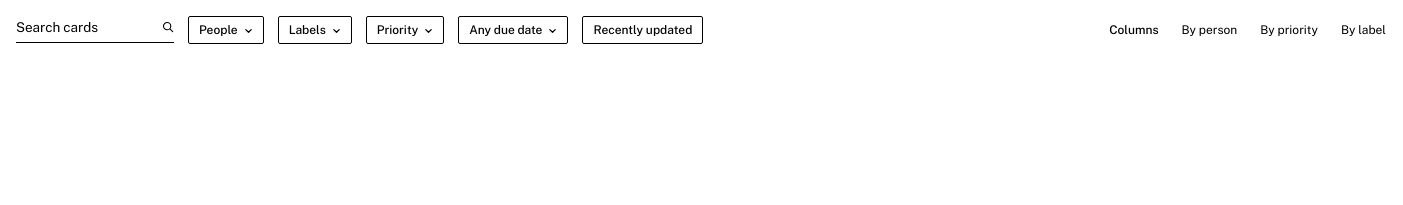
Test: BoardFilterBar — people › puts you first
Click the button with aria-label "Filter by assignee" at (226, 30), box [188,16,264,44]
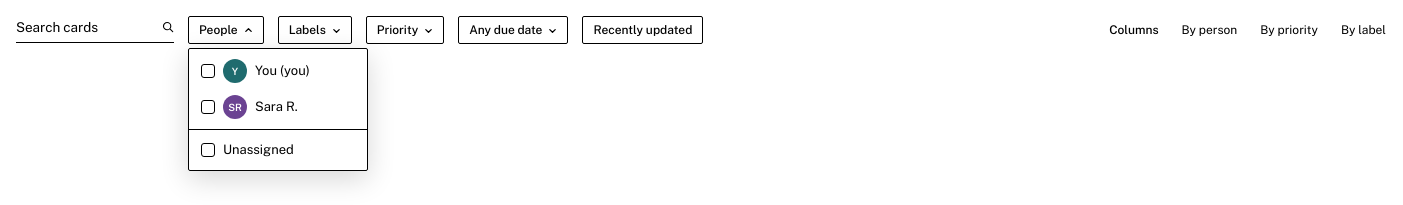
Now the menu item "Y You (you)" is shown, box [189,53,367,89]
